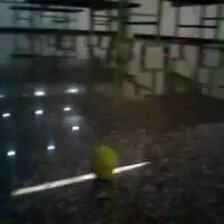tennis: (90, 145, 119, 181)
